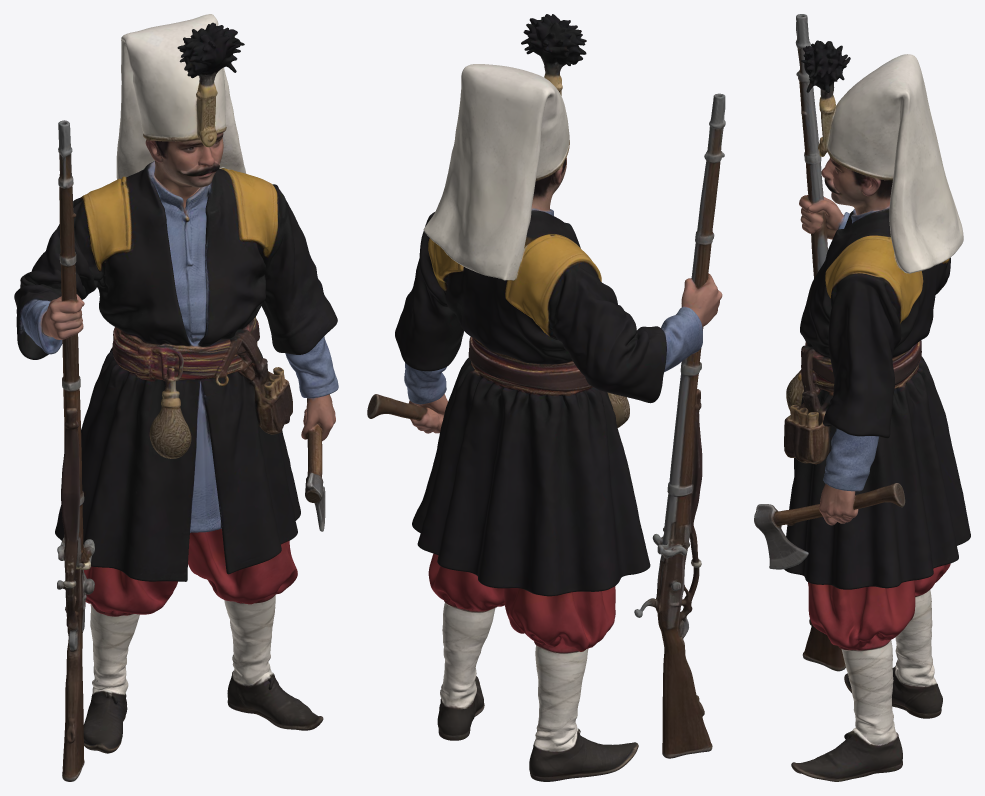
Rendered from yeniceri-donusum-seferli-1618-1650-tripo-v1.glb.
3 views of the same model, side by side, from view 1: azimuth 30°, elevation 25°; view 2: azimuth 150°, elevation 25°; view 3: azimuth 270°, elevation 25° (orthographic). The views are drawn at different scales.
Visible parts, largest first — view 1: tripo_node_58a47048-917a-46ef-8559-a0de273e3890; view 2: tripo_node_58a47048-917a-46ef-8559-a0de273e3890; view 3: tripo_node_58a47048-917a-46ef-8559-a0de273e3890.
Part boxes in pixels (box(x1,y1,x2,y2)): tripo_node_58a47048-917a-46ef-8559-a0de273e3890: box(14, 14, 338, 781); tripo_node_58a47048-917a-46ef-8559-a0de273e3890: box(367, 14, 725, 781); tripo_node_58a47048-917a-46ef-8559-a0de273e3890: box(754, 14, 970, 781).
Size of the model in its own units: 0.4562 by 1 by 0.2838.
1 material, 1 textured.
